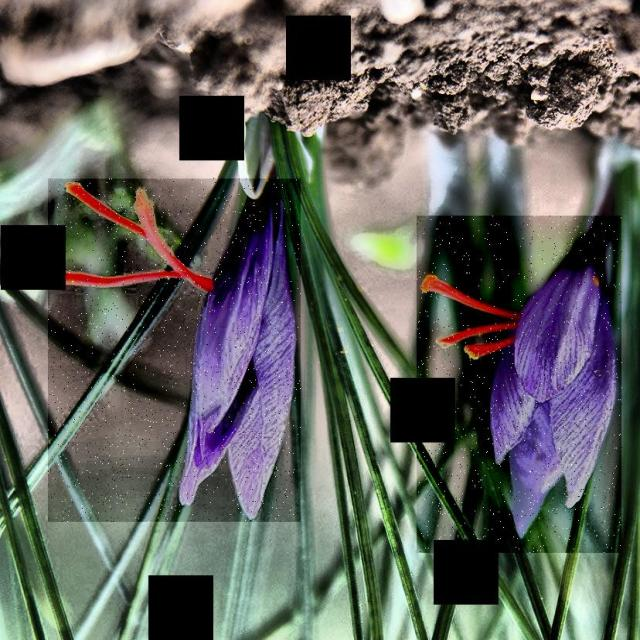Flower: (48, 178, 301, 522), (417, 216, 623, 553)
stigma: (61, 179, 212, 290), (128, 187, 214, 288), (418, 270, 521, 320), (62, 262, 185, 287), (436, 319, 524, 346), (463, 336, 517, 363)
